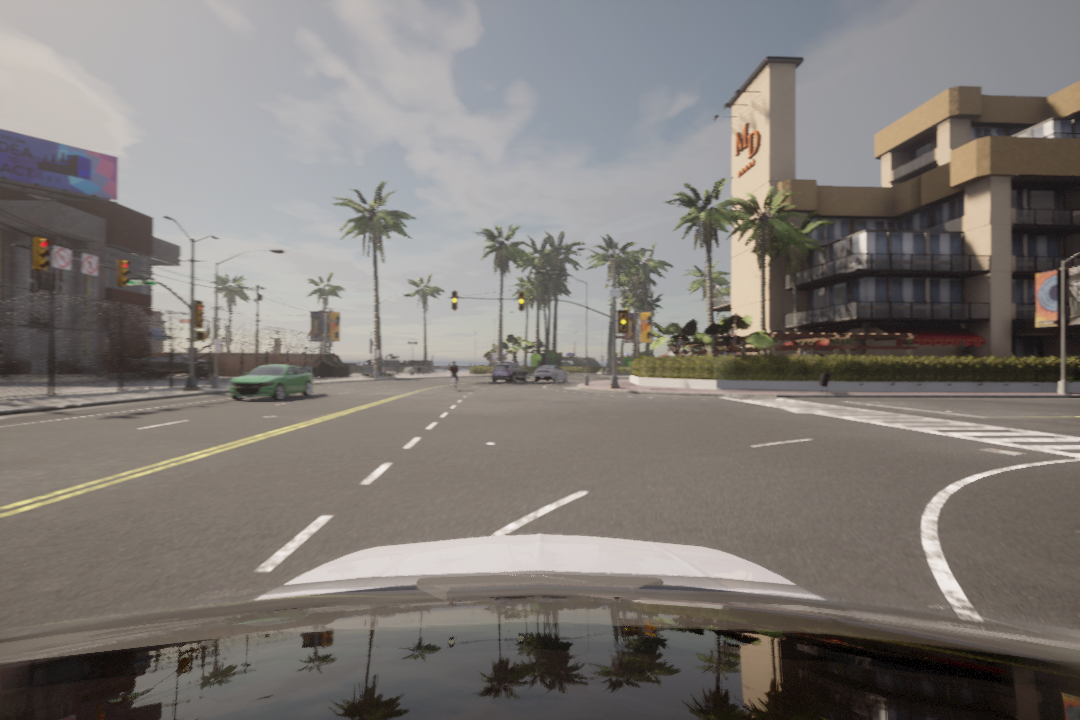TrafficLight: (618, 311, 631, 336), (516, 291, 527, 314), (448, 290, 461, 309)
